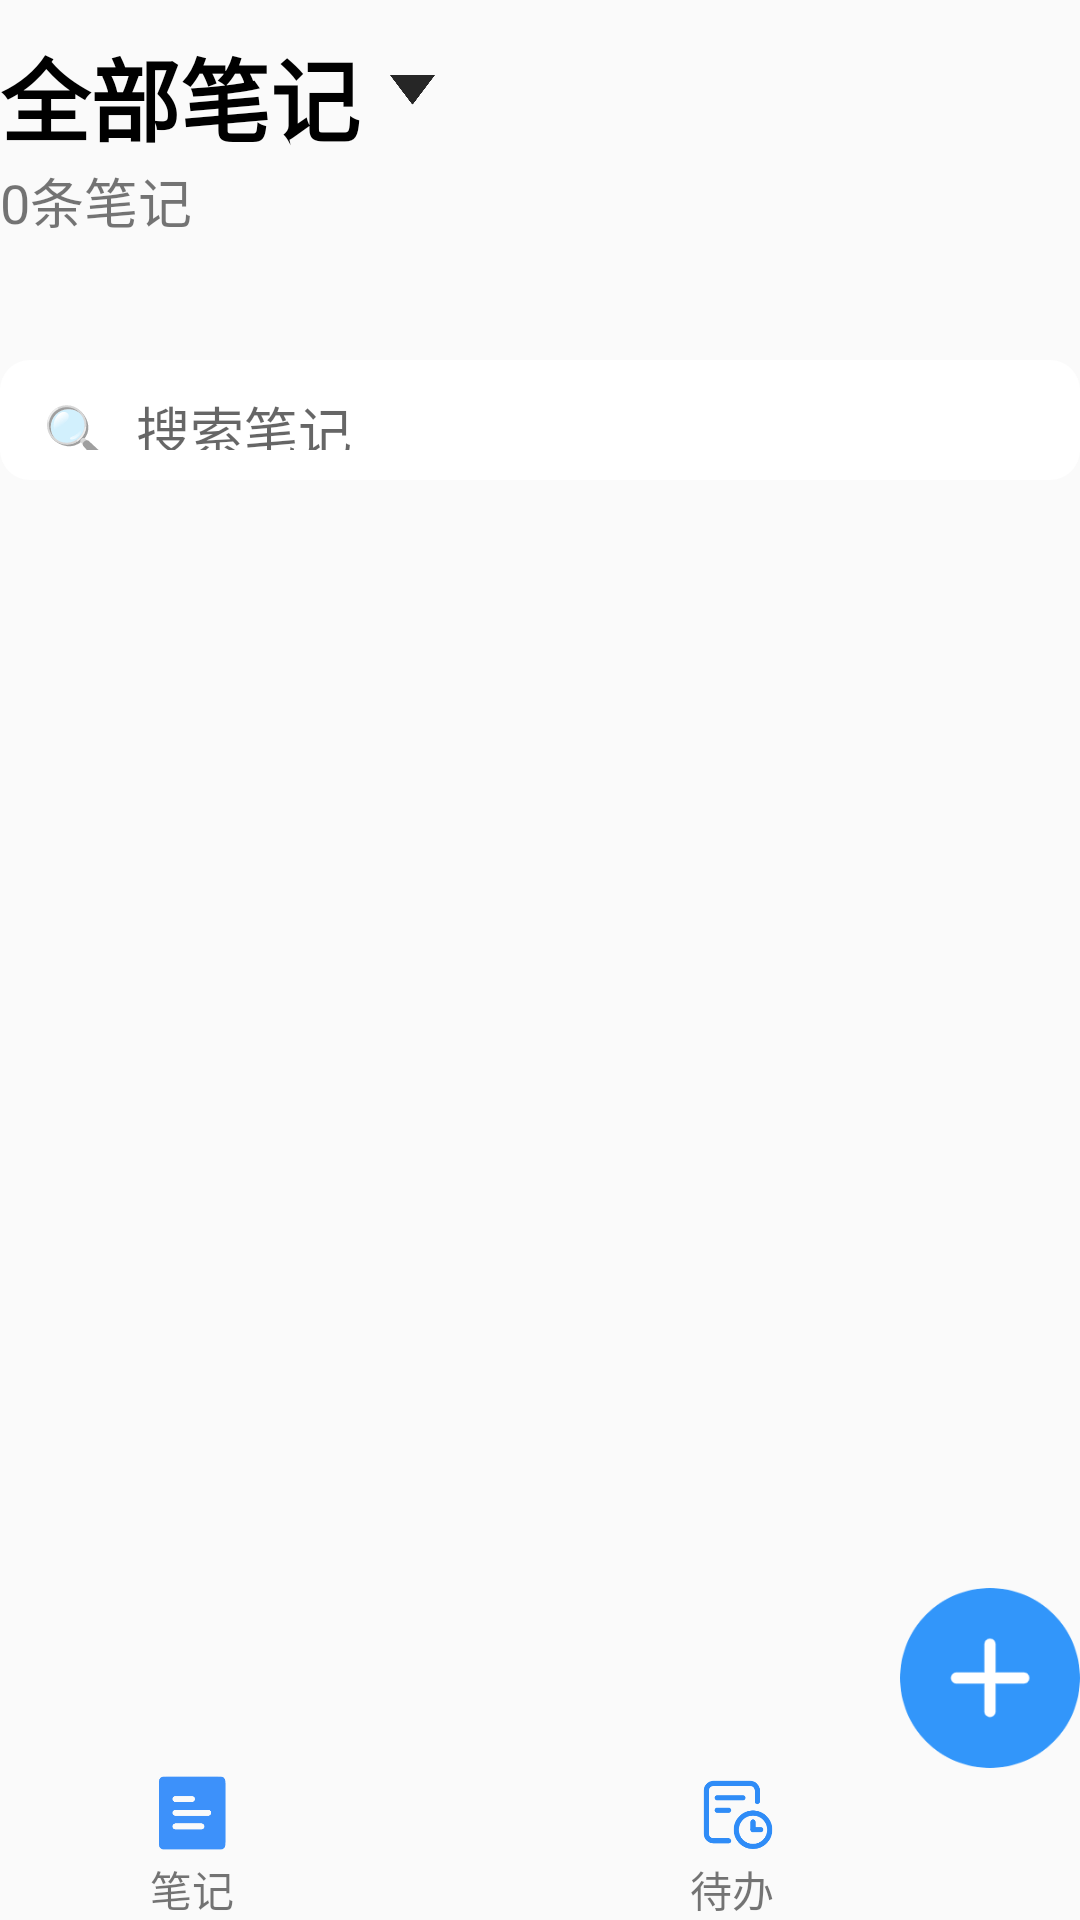

Icon bounding boxes for this 1080 × 1920 phone screenshot, format {"x1": x1, "y1": y1, "x2": x2, "y2": y2}:
add: {"x1": 900, "y1": 1588, "x2": 1080, "y2": 1768}
